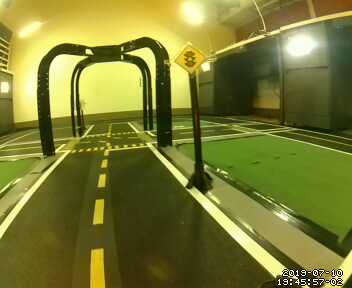Traffic light sign: (173, 44, 206, 74)
